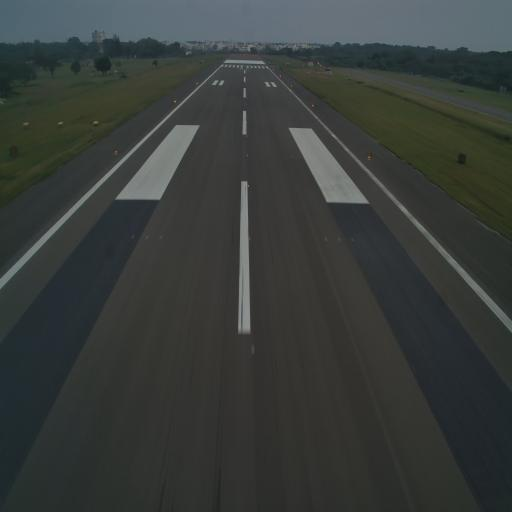off: (248, 343, 256, 358), (322, 235, 329, 245), (144, 232, 150, 243), (336, 234, 342, 244), (130, 232, 136, 241), (350, 234, 354, 244), (159, 233, 163, 242), (186, 150, 190, 156), (194, 152, 198, 158), (290, 154, 294, 159), (298, 155, 301, 159)
on: (366, 153, 371, 163), (247, 233, 252, 242), (114, 148, 118, 156), (247, 182, 251, 190), (246, 152, 250, 159), (244, 132, 248, 139)
